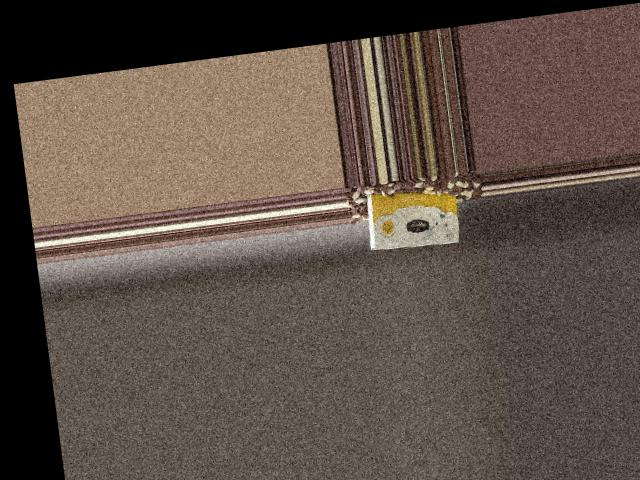chocolate: (359, 180, 467, 257)
